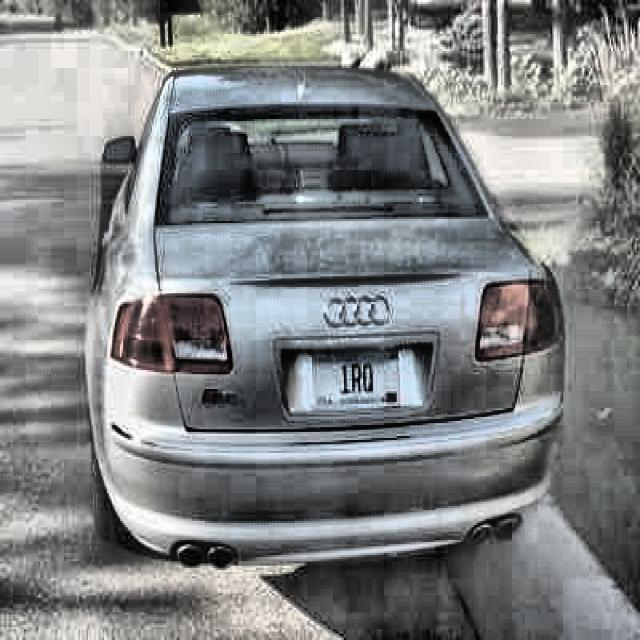license_plate: (305, 349, 407, 414)
